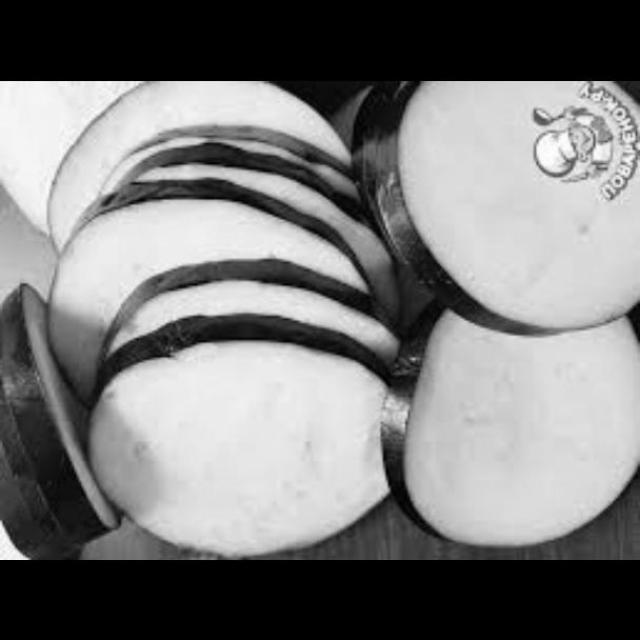eggplant: (0, 82, 623, 560)
